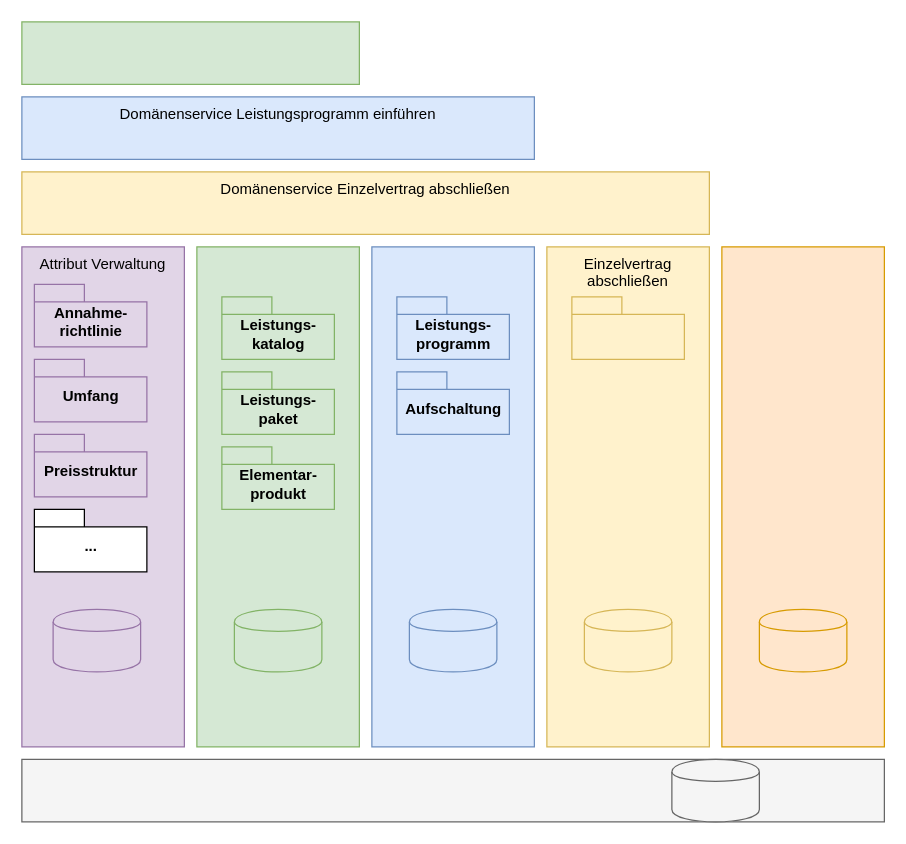
Some shapes in this 906 by 844 pixel diagram are drawn without their labels. The box of each missing label's shape, as (x1, y1, x2, y2) in pixels:
Authentifizierung und Autorisierung: (21, 758, 884, 822)
Domänenservice Leistungsprogramm konfigurieren: (21, 21, 359, 84)
Einzelvertrag: (571, 296, 684, 359)
Leistungskatalog konfigurieren: (196, 246, 359, 747)
Leistungsprogramm einführen: (371, 246, 534, 747)
Schaden bearbeiten: (721, 246, 884, 747)
